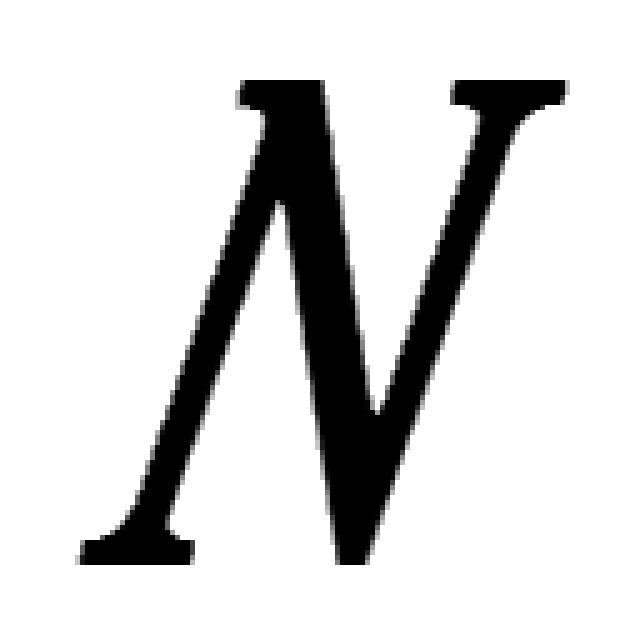N: (70, 60, 575, 575)
